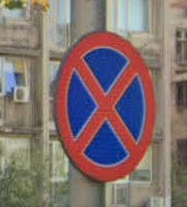oprirea_interzisa: (52, 26, 162, 186)
